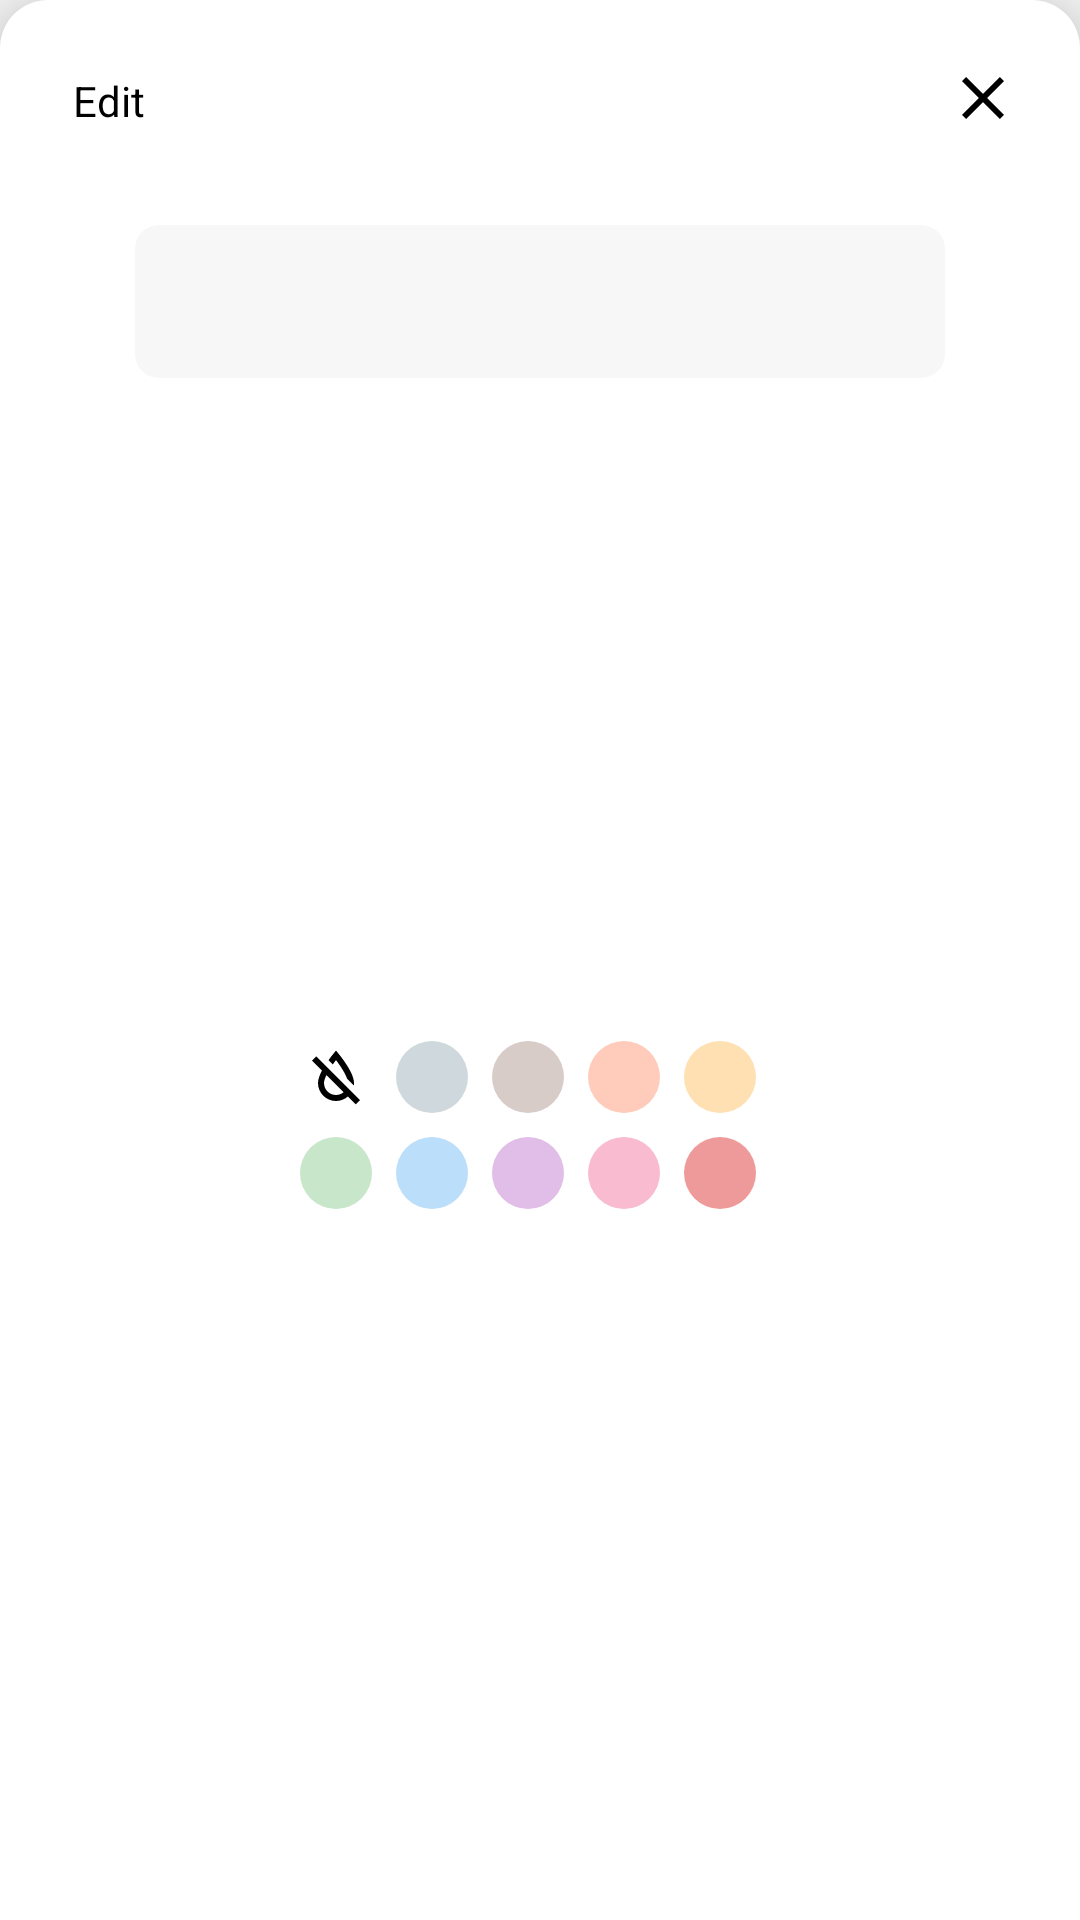

Where icons sit on this 1080x1920 app screen, as bbox=(x1, y1, x2, y2):
close: bbox=(962, 77, 1004, 119)
